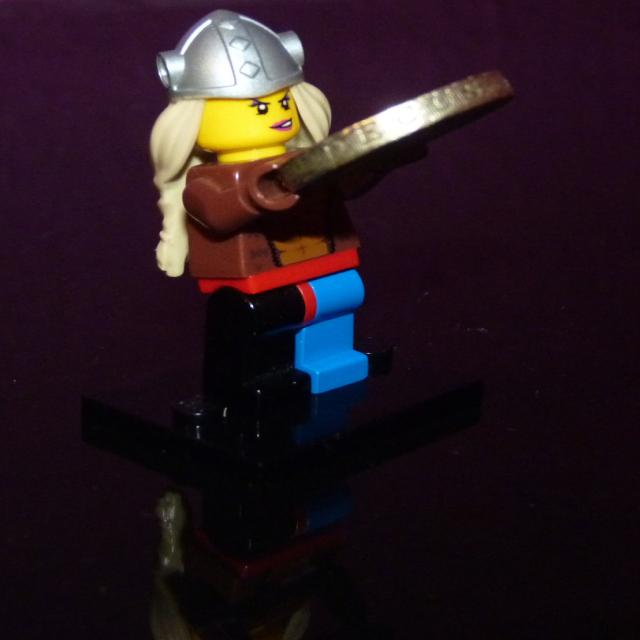Toy: (133, 28, 390, 396)
